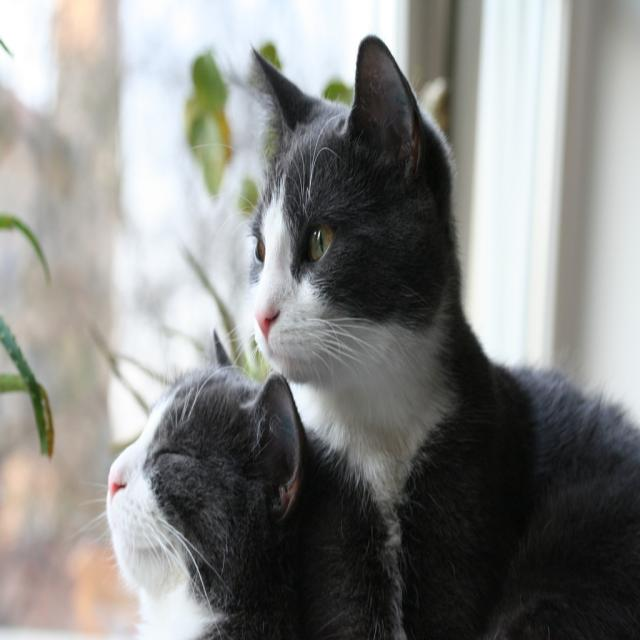Cat: (187, 27, 638, 638), (68, 326, 402, 638)
